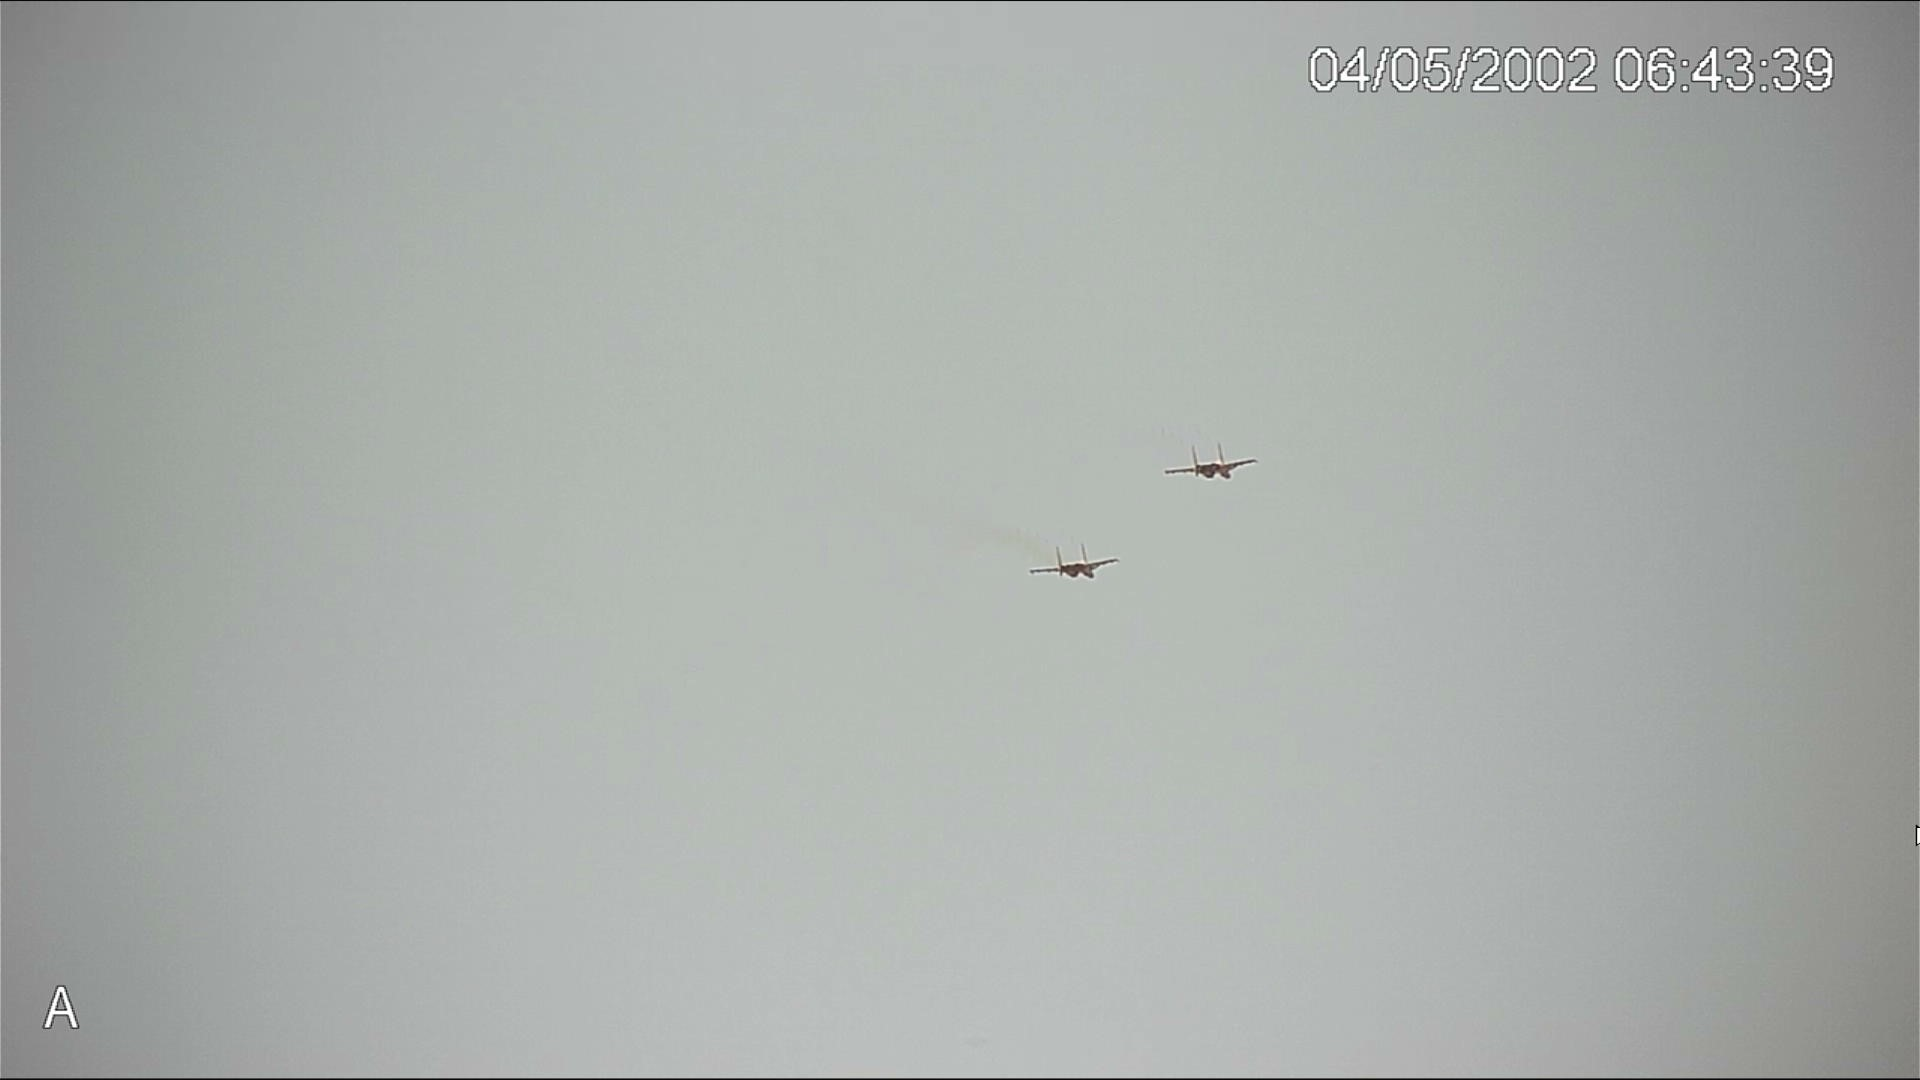SU_30: (1163, 443, 1265, 487), (1025, 539, 1113, 582)
